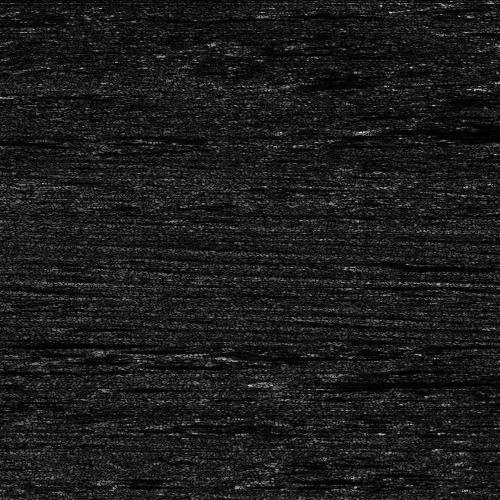object: (336, 123, 429, 136)
shadow: (0, 333, 148, 350), (383, 123, 500, 136)
